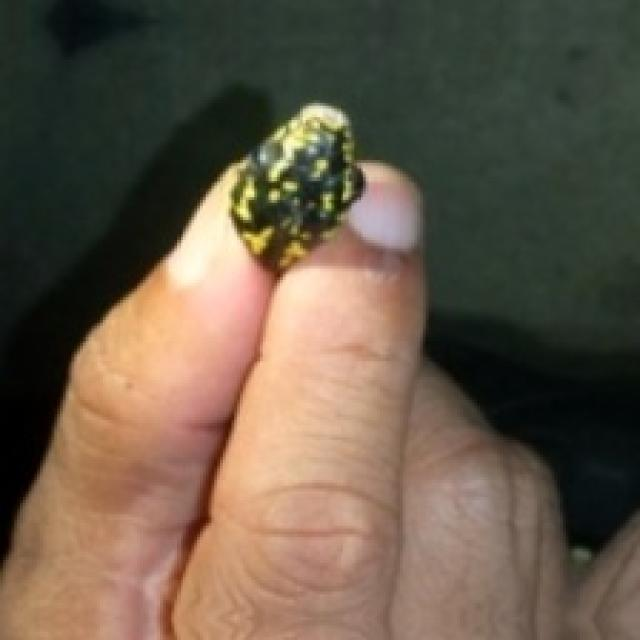mangrove cat snake: (231, 103, 360, 271)
